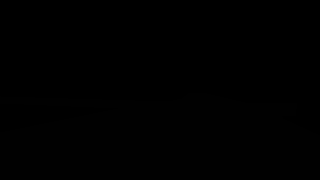go_ahead: (289, 21, 319, 56)
